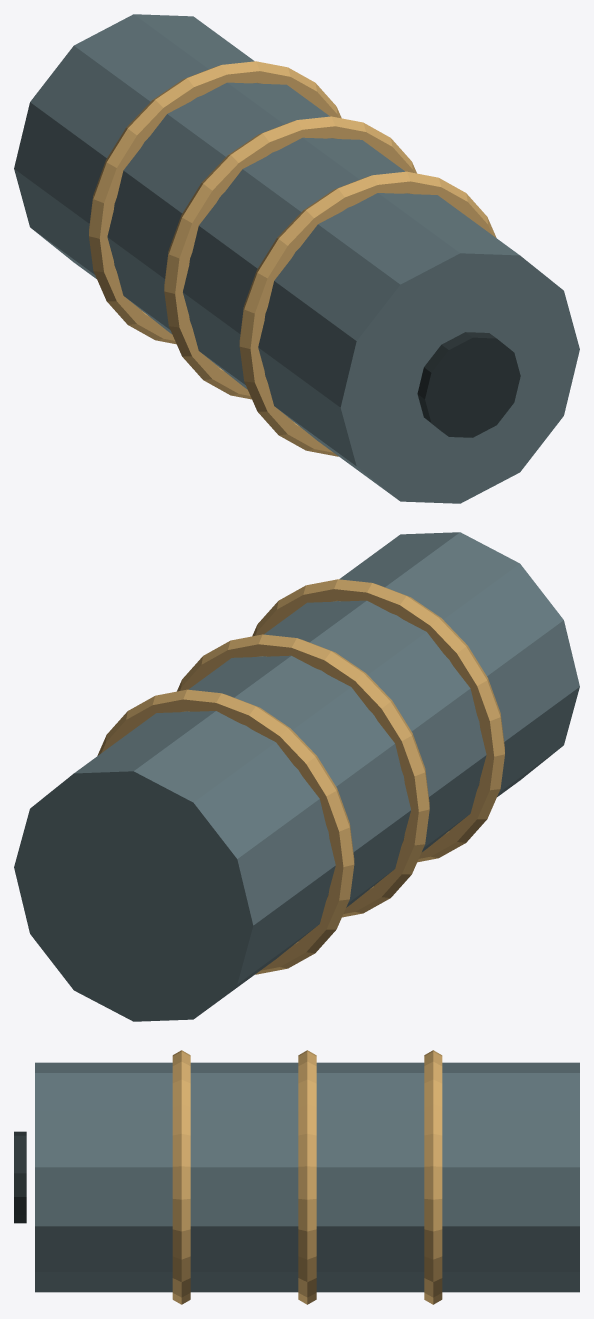
Rendered from barrel.glb.
3 views of the same model, one above another, from view 1: azimuth 30°, elevation 25°; view 2: azimuth 150°, elevation 25°; view 3: azimuth 270°, elevation 25° (orthographic). The views are drawn at different scales.
Parts seen in each view (by area): view 1: Suppressor, Machined band, Machined band.001, Machined band.002, Dark bore; view 2: Suppressor, Machined band.002, Machined band.001, Machined band; view 3: Suppressor, Machined band, Machined band.001, Machined band.002, Dark bore.
Boxes of the visible parts, x1,y1,x2,y2 form: Suppressor: (14,14,579,503); Machined band: (239,171,496,456); Machined band.001: (164,116,416,399); Machined band.002: (89,61,341,344); Dark bore: (417,332,520,437); Suppressor: (14,532,579,1021); Machined band.002: (97,689,354,974); Machined band.001: (177,634,429,917); Machined band: (252,579,504,862); Suppressor: (35,1062,579,1292); Machined band: (172,1050,190,1304); Machined band.001: (298,1050,316,1304); Machined band.002: (424,1050,442,1304); Dark bore: (14,1131,26,1223).
Bounding box in the file's own units: 0.122 × 0.122 × 0.27.
